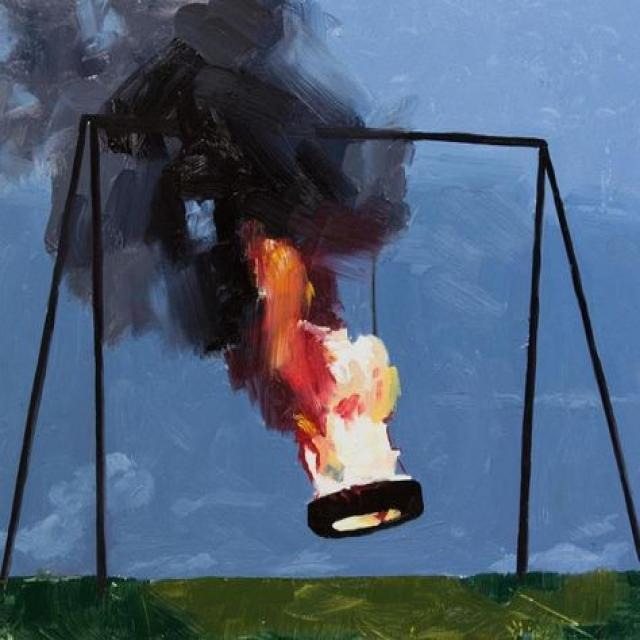Fire: (7, 0, 354, 321), (236, 214, 444, 538)
